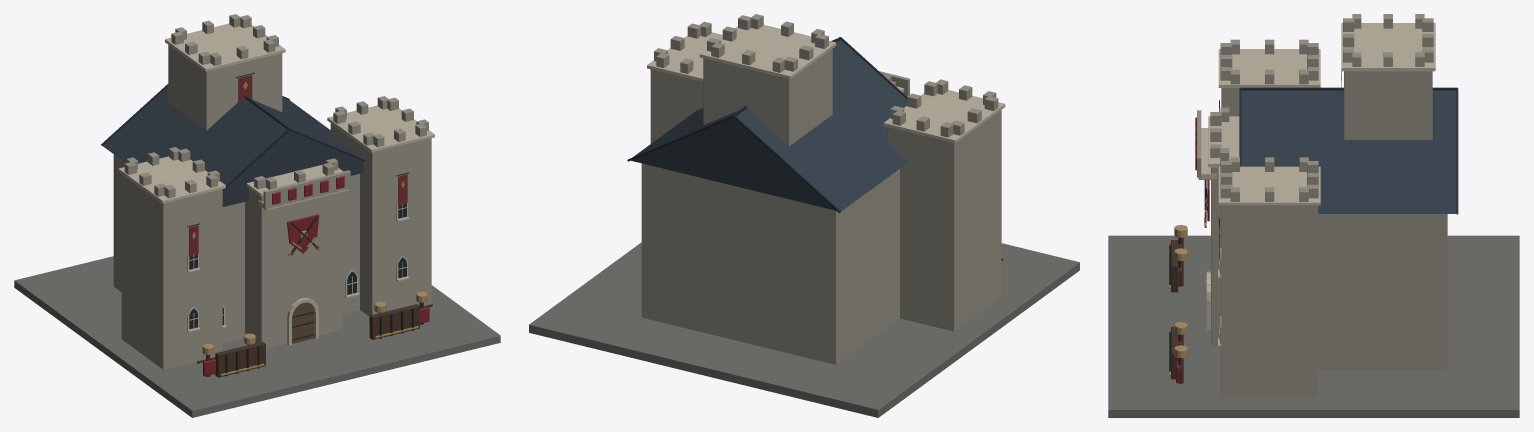
File: WarriorAcademy.fbx
The picture shows the model from 3 angles, left to right: view 1: azimuth 30°, elevation 25°; view 2: azimuth 150°, elevation 25°; view 3: azimuth 270°, elevation 25°; orthographic projection. The views are drawn at different scales.
Visible parts, largest first — view 1: Warrior Academy foundation.001, Warrior Academy drill tower.002, Warrior Academy great hall roof.001, Warrior Academy gatehouse.001, Warrior Academy drill tower.003, Warrior Academy great hall.001, Warrior Academy high banner tower.001, Warrior Academy high tower crown coping.001, Warrior Academy tower crown coping.003, Warrior Academy tower crown coping.002, Warrior Academy balcony parapet.001, Warrior Academy weapon rack.002 (+4 smaller); view 2: Warrior Academy great hall.001, Warrior Academy foundation.001, Warrior Academy great hall roof.001, Warrior Academy drill tower.002, Warrior Academy high banner tower.001, Warrior Academy high tower crown coping.001, Warrior Academy tower crown coping.002, Warrior Academy drill tower.003, Warrior Academy tower crown coping.003; view 3: Warrior Academy foundation.001, Warrior Academy great hall.001, Warrior Academy drill tower.003, Warrior Academy great hall roof.001, Warrior Academy high banner tower.001, Warrior Academy high tower crown coping.001, Warrior Academy tower crown coping.003, Warrior Academy tower crown coping.002, Warrior Academy gatehouse.001, Warrior Academy gatehouse crown coping.001, Warrior Academy great hall roof ridge.001, Warrior Academy instructors balcony.001 (+1 smaller).
Boxes of the visible parts, <box> form: Warrior Academy foundation.001: <box>14,256,500,417</box>; Warrior Academy drill tower.002: <box>121,174,222,369</box>; Warrior Academy great hall roof.001: <box>102,86,363,206</box>; Warrior Academy gatehouse.001: <box>245,188,342,348</box>; Warrior Academy drill tower.003: <box>330,123,431,316</box>; Warrior Academy great hall.001: <box>113,154,359,343</box>; Warrior Academy high banner tower.001: <box>168,45,282,130</box>; Warrior Academy high tower crown coping.001: <box>165,23,285,71</box>; Warrior Academy tower crown coping.003: <box>327,105,434,152</box>; Warrior Academy tower crown coping.002: <box>118,156,225,203</box>; Warrior Academy balcony parapet.001: <box>263,170,350,208</box>; Warrior Academy weapon rack.002: <box>215,341,265,377</box>; Warrior Academy great hall.001: <box>641,163,899,364</box>; Warrior Academy foundation.001: <box>529,242,1079,417</box>; Warrior Academy great hall roof.001: <box>631,40,908,211</box>; Warrior Academy drill tower.002: <box>887,110,1001,331</box>; Warrior Academy high banner tower.001: <box>703,49,832,145</box>; Warrior Academy high tower crown coping.001: <box>699,25,836,79</box>; Warrior Academy tower crown coping.002: <box>883,90,1005,143</box>; Warrior Academy drill tower.003: <box>650,69,703,143</box>; Warrior Academy tower crown coping.003: <box>647,32,722,81</box>; Warrior Academy foundation.001: <box>1108,235,1519,417</box>; Warrior Academy great hall.001: <box>1318,214,1447,370</box>; Warrior Academy drill tower.003: <box>1221,206,1317,398</box>; Warrior Academy great hall roof.001: <box>1241,90,1456,213</box>; Warrior Academy high banner tower.001: <box>1344,71,1432,139</box>; Warrior Academy high tower crown coping.001: <box>1341,23,1435,71</box>; Warrior Academy tower crown coping.003: <box>1218,166,1320,205</box>; Warrior Academy tower crown coping.002: <box>1218,49,1320,87</box>; Warrior Academy gatehouse.001: <box>1211,167,1221,345</box>; Warrior Academy gatehouse crown coping.001: <box>1208,116,1239,167</box>; Warrior Academy great hall roof ridge.001: <box>1240,87,1457,90</box>; Warrior Academy instructors balcony.001: <box>1198,128,1216,179</box>.
Bounding box in the file's own units: 26 × 20.61 × 26.
